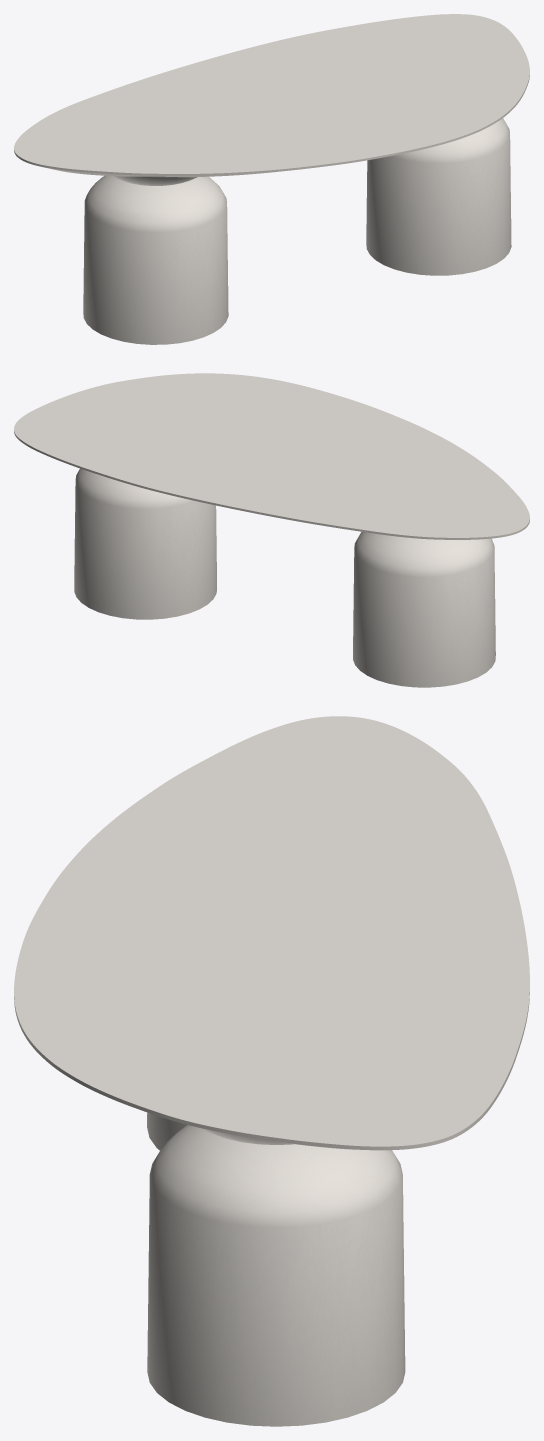
Rendered from pearlwhite_pebbletop_facet_tornado.glb.
3 renders of one model, top to bottom at view 1: azimuth 30°, elevation 25°; view 2: azimuth 150°, elevation 25°; view 3: azimuth 270°, elevation 25°, orthographic. The views are drawn at different scales.
Parts seen in each view (by area): view 1: facet_pebbletop, tornado; view 2: facet_pebbletop, tornado; view 3: facet_pebbletop, tornado.
Part boxes in pixels (box(x1,y1,x2,y2)): facet_pebbletop: box(14, 14, 529, 177); tornado: box(83, 118, 511, 344); facet_pebbletop: box(14, 373, 529, 539); tornado: box(74, 468, 495, 687); facet_pebbletop: box(14, 716, 529, 1150); tornado: box(147, 1112, 405, 1426).
Size of the model in its own units: 7.5 by 2.5 by 3.8.
Materials: 1 (1 with a texture image).
